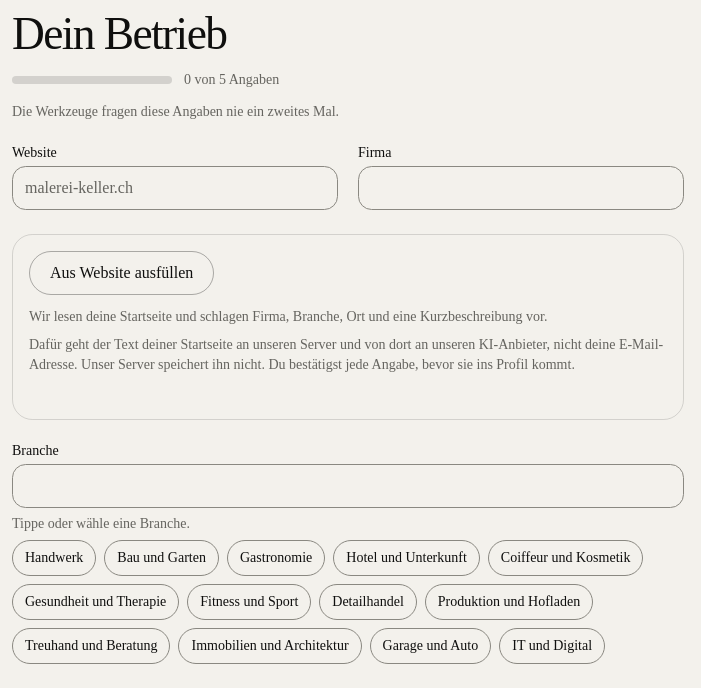
Aus Website ausfüllen › verlangt zuerst eine Website und ruft nichts auf
The width and height of the screenshot is (701, 688).
Click the button "Aus Website ausfüllen" at (122, 273), box [29, 251, 214, 295]
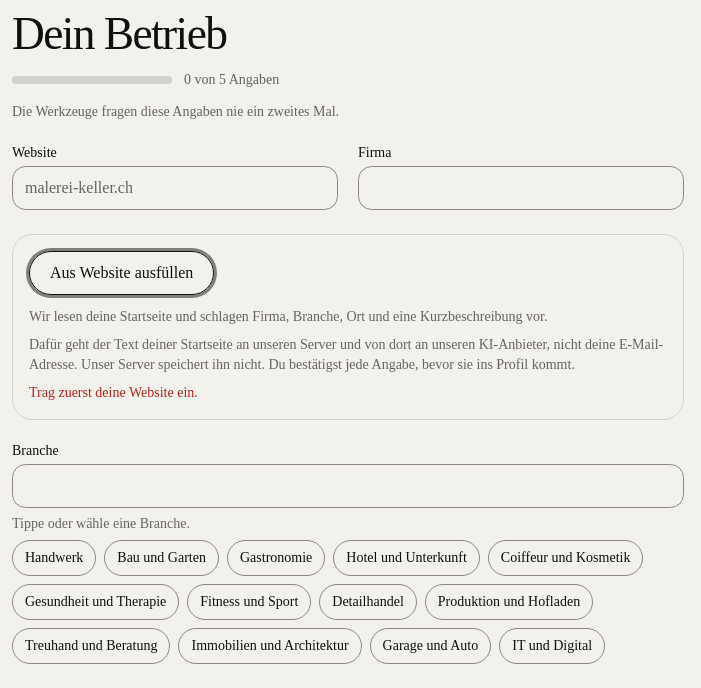
Expected: the text "Trag zuerst deine Website ein." is shown, [29, 385, 198, 400]
